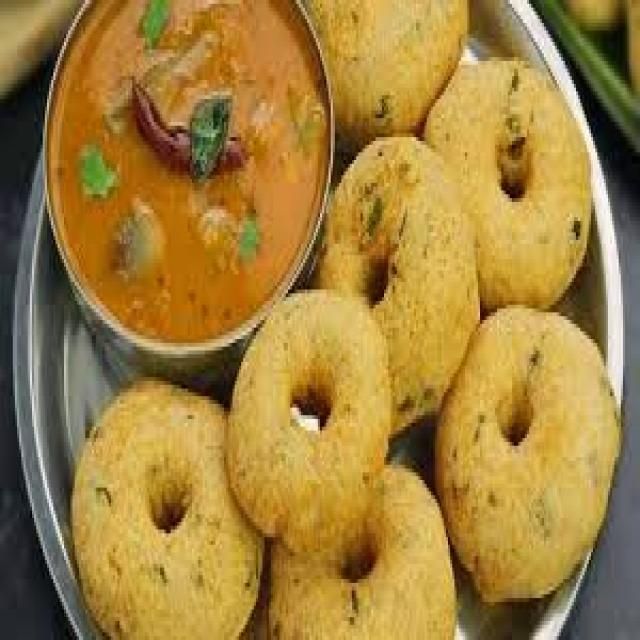MEDU VADA: (437, 306, 619, 606), (71, 377, 266, 636), (318, 135, 482, 442), (228, 287, 391, 570), (423, 59, 594, 311), (266, 460, 456, 636), (300, 0, 468, 136)
